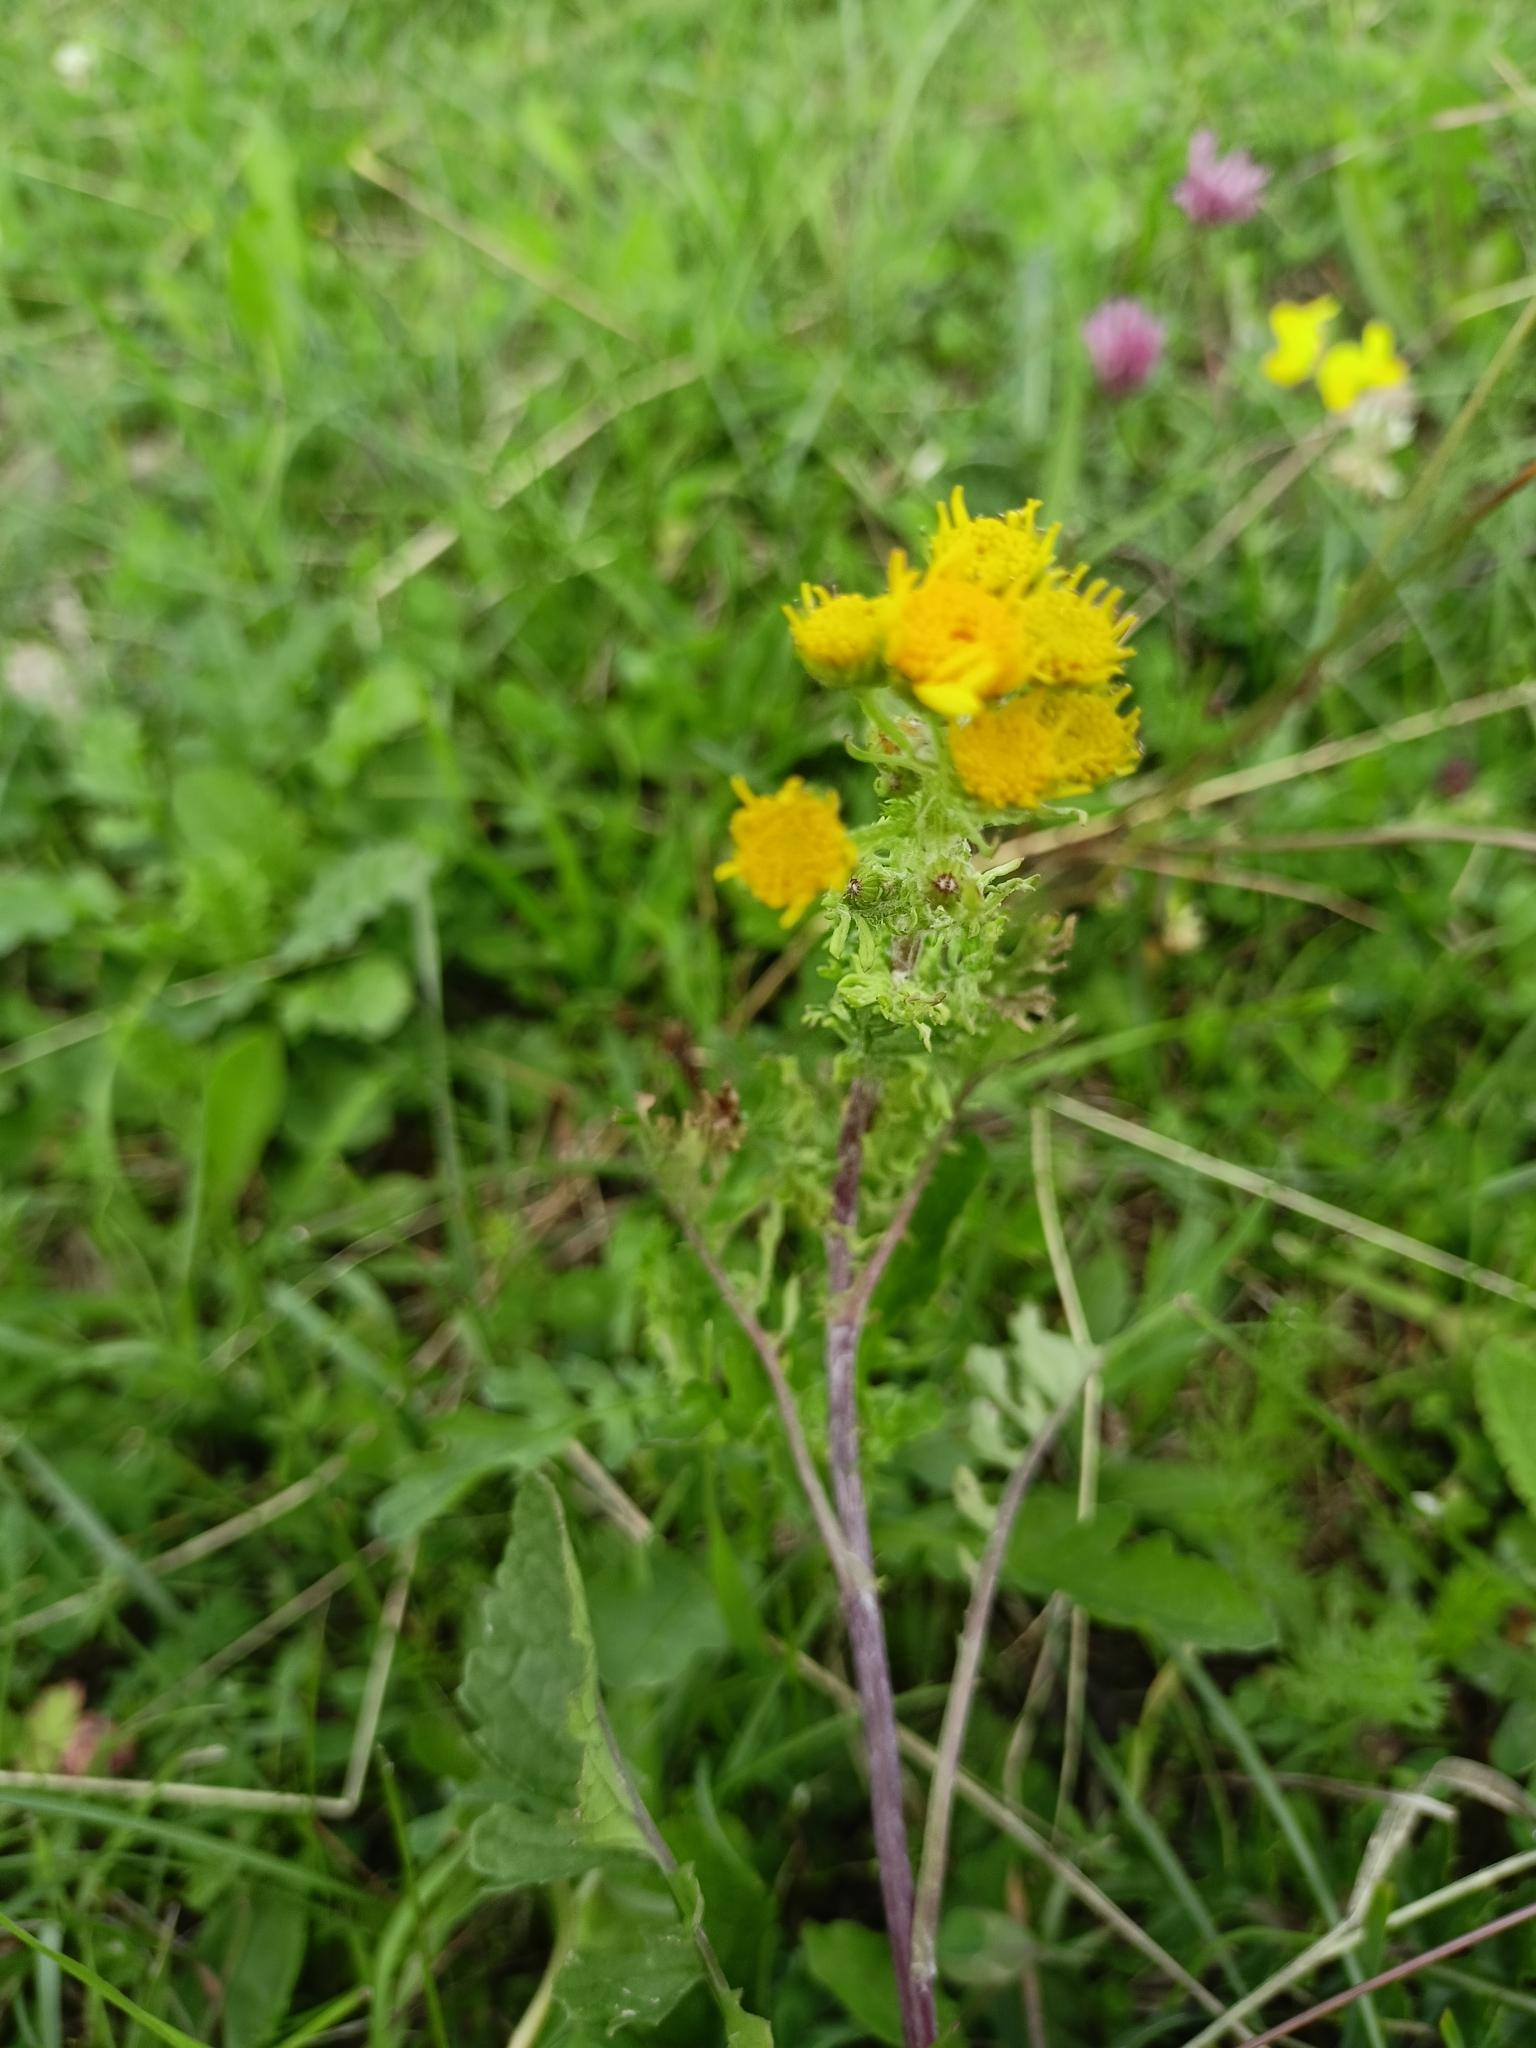Jacobaea vulgaris: (623, 437, 1173, 2048)
